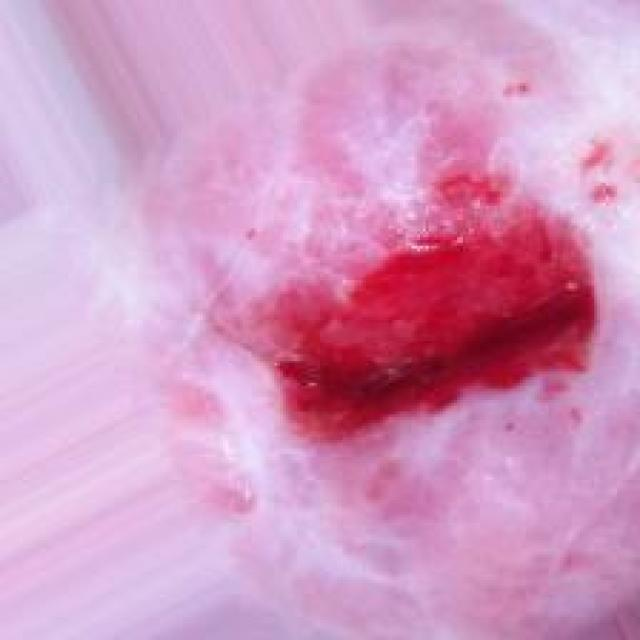type-1: (143, 59, 619, 592)
